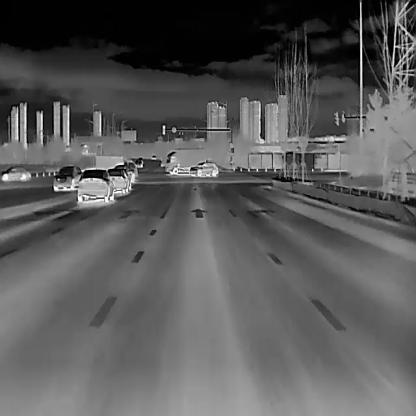car: (77, 168, 114, 203), (164, 146, 207, 175), (52, 164, 81, 190), (108, 168, 132, 194), (86, 155, 122, 170), (0, 164, 29, 180), (189, 160, 218, 176), (135, 158, 143, 167), (150, 153, 156, 159)
